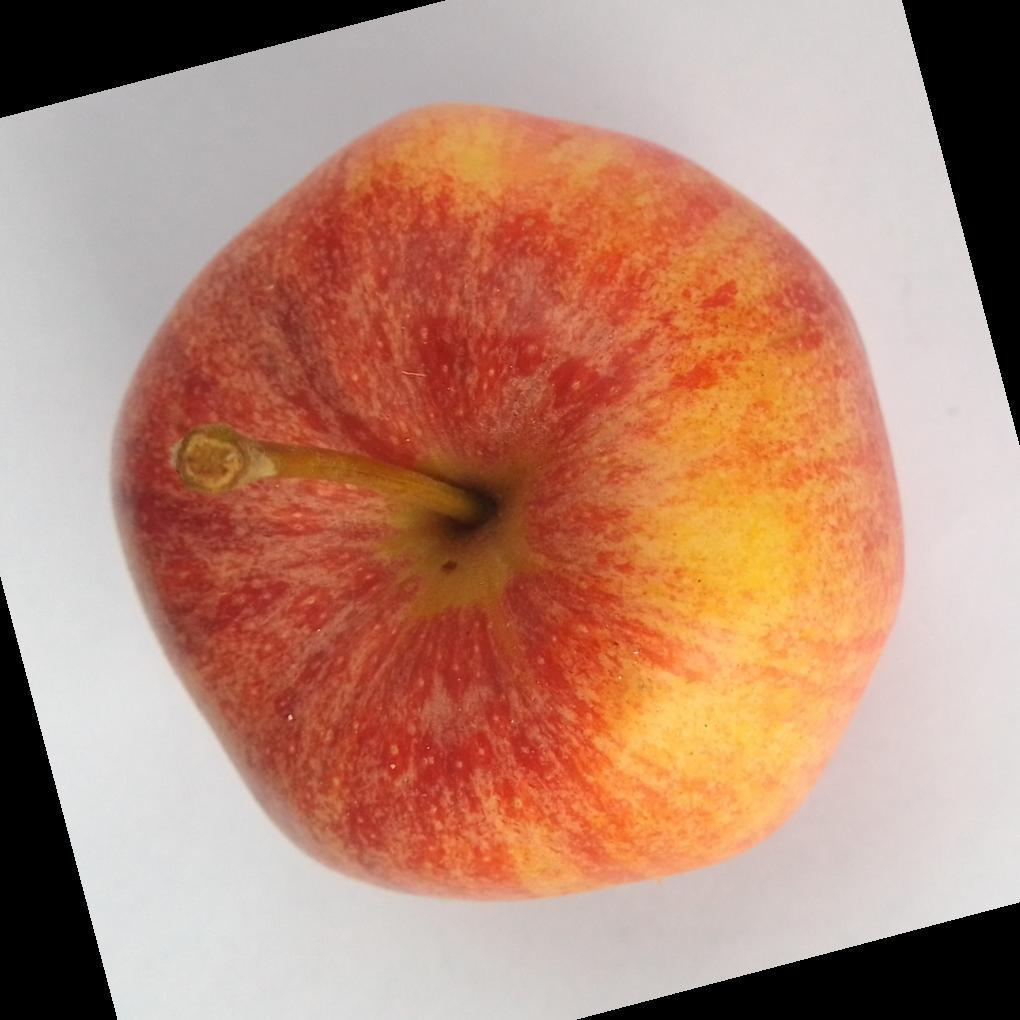FreshGuava: (109, 103, 907, 907)
